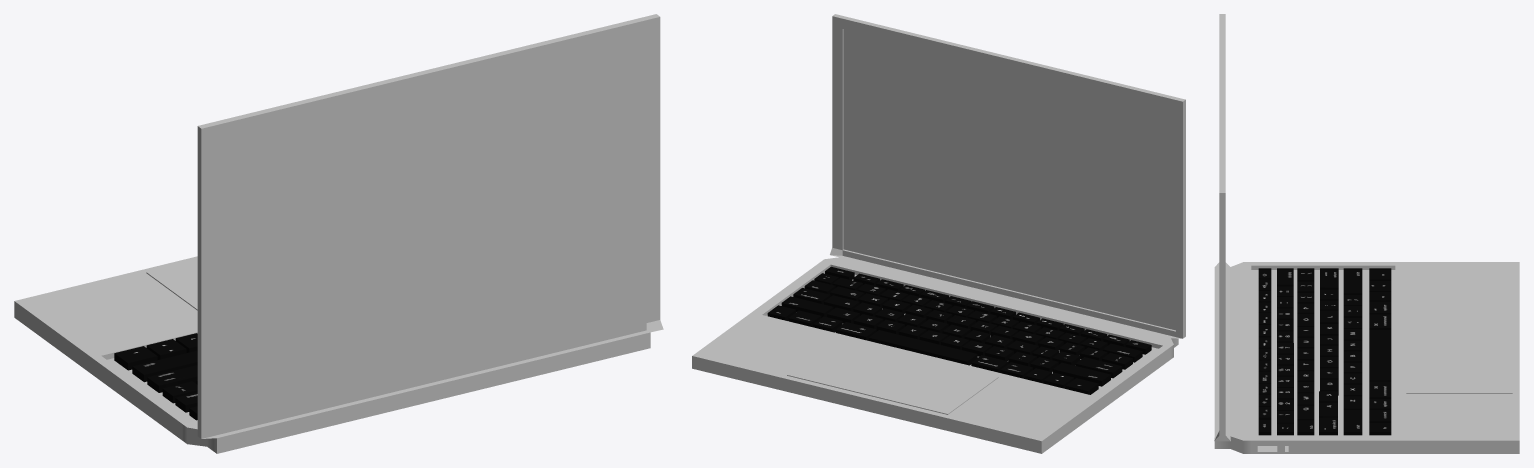
3 renders of one model, left to right at view 1: azimuth 30°, elevation 25°; view 2: azimuth 150°, elevation 25°; view 3: azimuth 270°, elevation 25°, orthographic. The views are drawn at different scales.
Visible parts, largest first — view 1: portatil, Box001; view 2: portatil, Box001; view 3: portatil, Box001.
Boxes of the visible parts, x1,y1,x2,y2 form: portatil: (14, 14, 663, 453); Box001: (114, 333, 197, 420); portatil: (692, 14, 1185, 453); Box001: (767, 267, 1151, 394); portatil: (1214, 14, 1519, 453); Box001: (1258, 268, 1391, 435).
Bounding box in the file's own units: 23.19 × 15.77 × 16.73.
